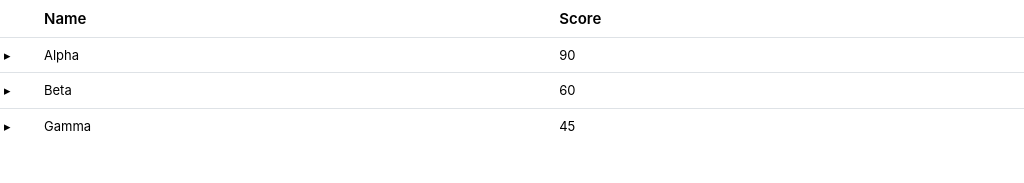
Test: DataTable › expands a row when renderExpanded is provided and row clicked
The image size is (1024, 183).
# Click the row (the tr is clickable)
Click the text "Alpha".
click(62, 55)  # box [40,38,555,73]
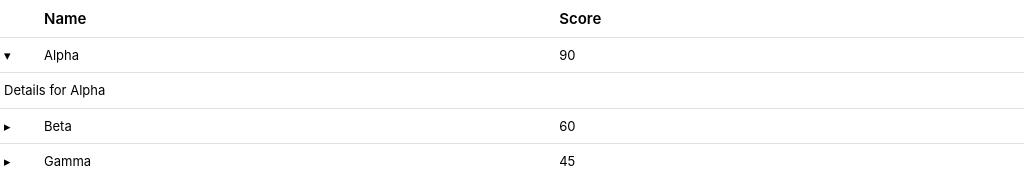
Result: the text "Details for Alpha" is shown at [4,82,105,98]
